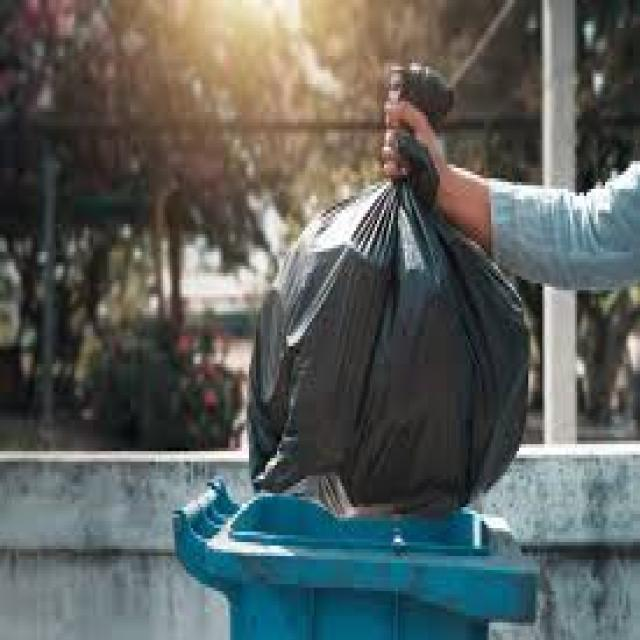garbage: (240, 42, 524, 528)
